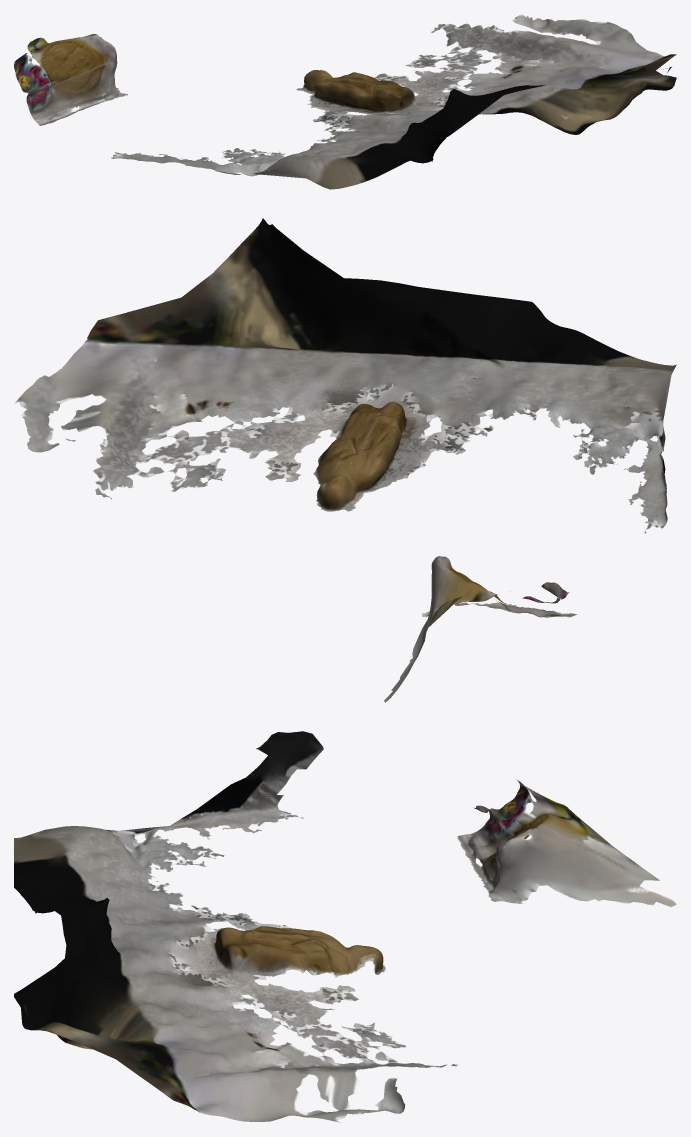
3 renders of one model, top to bottom at view 1: azimuth 30°, elevation 25°; view 2: azimuth 150°, elevation 25°; view 3: azimuth 270°, elevation 25°, orthographic. The views are drawn at different scales.
Bounding box in the file's own units: 2.22 × 0.5274 × 2.05.
Materials: 1 (1 with a texture image).
